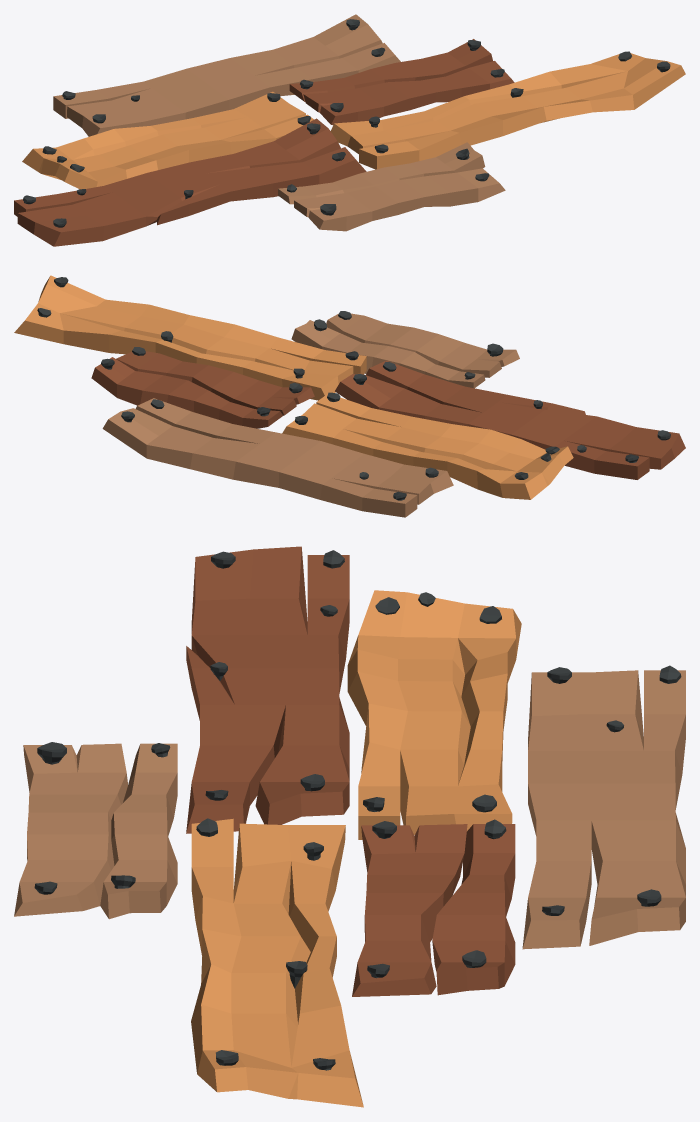
Rendered from MOD_Floorboards.fbx.
3 renders of one model, top to bottom at view 1: azimuth 30°, elevation 25°; view 2: azimuth 150°, elevation 25°; view 3: azimuth 270°, elevation 25°, orthographic. The views are drawn at different scales.
Parts seen in each view (by area): view 1: MOD_Floorboards_5, MOD_Floorboards_2, MOD_Floorboards_0, MOD_Floorboards_3, MOD_Floorboards_1, MOD_Floorboards_4; view 2: MOD_Floorboards_0, MOD_Floorboards_2, MOD_Floorboards_5, MOD_Floorboards_3, MOD_Floorboards_4, MOD_Floorboards_1; view 3: MOD_Floorboards_5, MOD_Floorboards_0, MOD_Floorboards_2, MOD_Floorboards_3, MOD_Floorboards_4, MOD_Floorboards_1.
Part boxes in pixels (x1,y1,x2,y2): MOD_Floorboards_5: (14, 118, 366, 246); MOD_Floorboards_2: (330, 51, 685, 169); MOD_Floorboards_0: (53, 14, 400, 136); MOD_Floorboards_3: (22, 91, 313, 189); MOD_Floorboards_1: (278, 142, 505, 231); MOD_Floorboards_4: (289, 39, 514, 124); MOD_Floorboards_0: (102, 398, 453, 517); MOD_Floorboards_2: (14, 275, 366, 400); MOD_Floorboards_5: (335, 360, 685, 479); MOD_Floorboards_3: (282, 392, 573, 499); MOD_Floorboards_4: (91, 347, 314, 428); MOD_Floorboards_1: (291, 311, 519, 388); MOD_Floorboards_5: (186, 546, 349, 833); MOD_Floorboards_0: (522, 665, 685, 949); MOD_Floorboards_2: (191, 818, 363, 1107); MOD_Floorboards_3: (347, 590, 521, 839); MOD_Floorboards_4: (352, 819, 515, 996); MOD_Floorboards_1: (14, 742, 177, 919).
Bounding box in the file's own units: 276 × 14.06 × 144.
